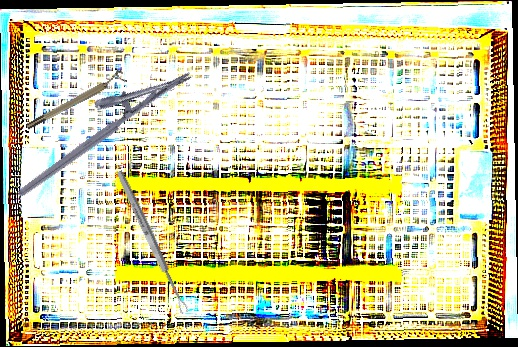Fixation Ring: (22, 68, 128, 132)
Needle Holder: (0, 47, 194, 199)
Surgical Spoon: (114, 169, 190, 315)
